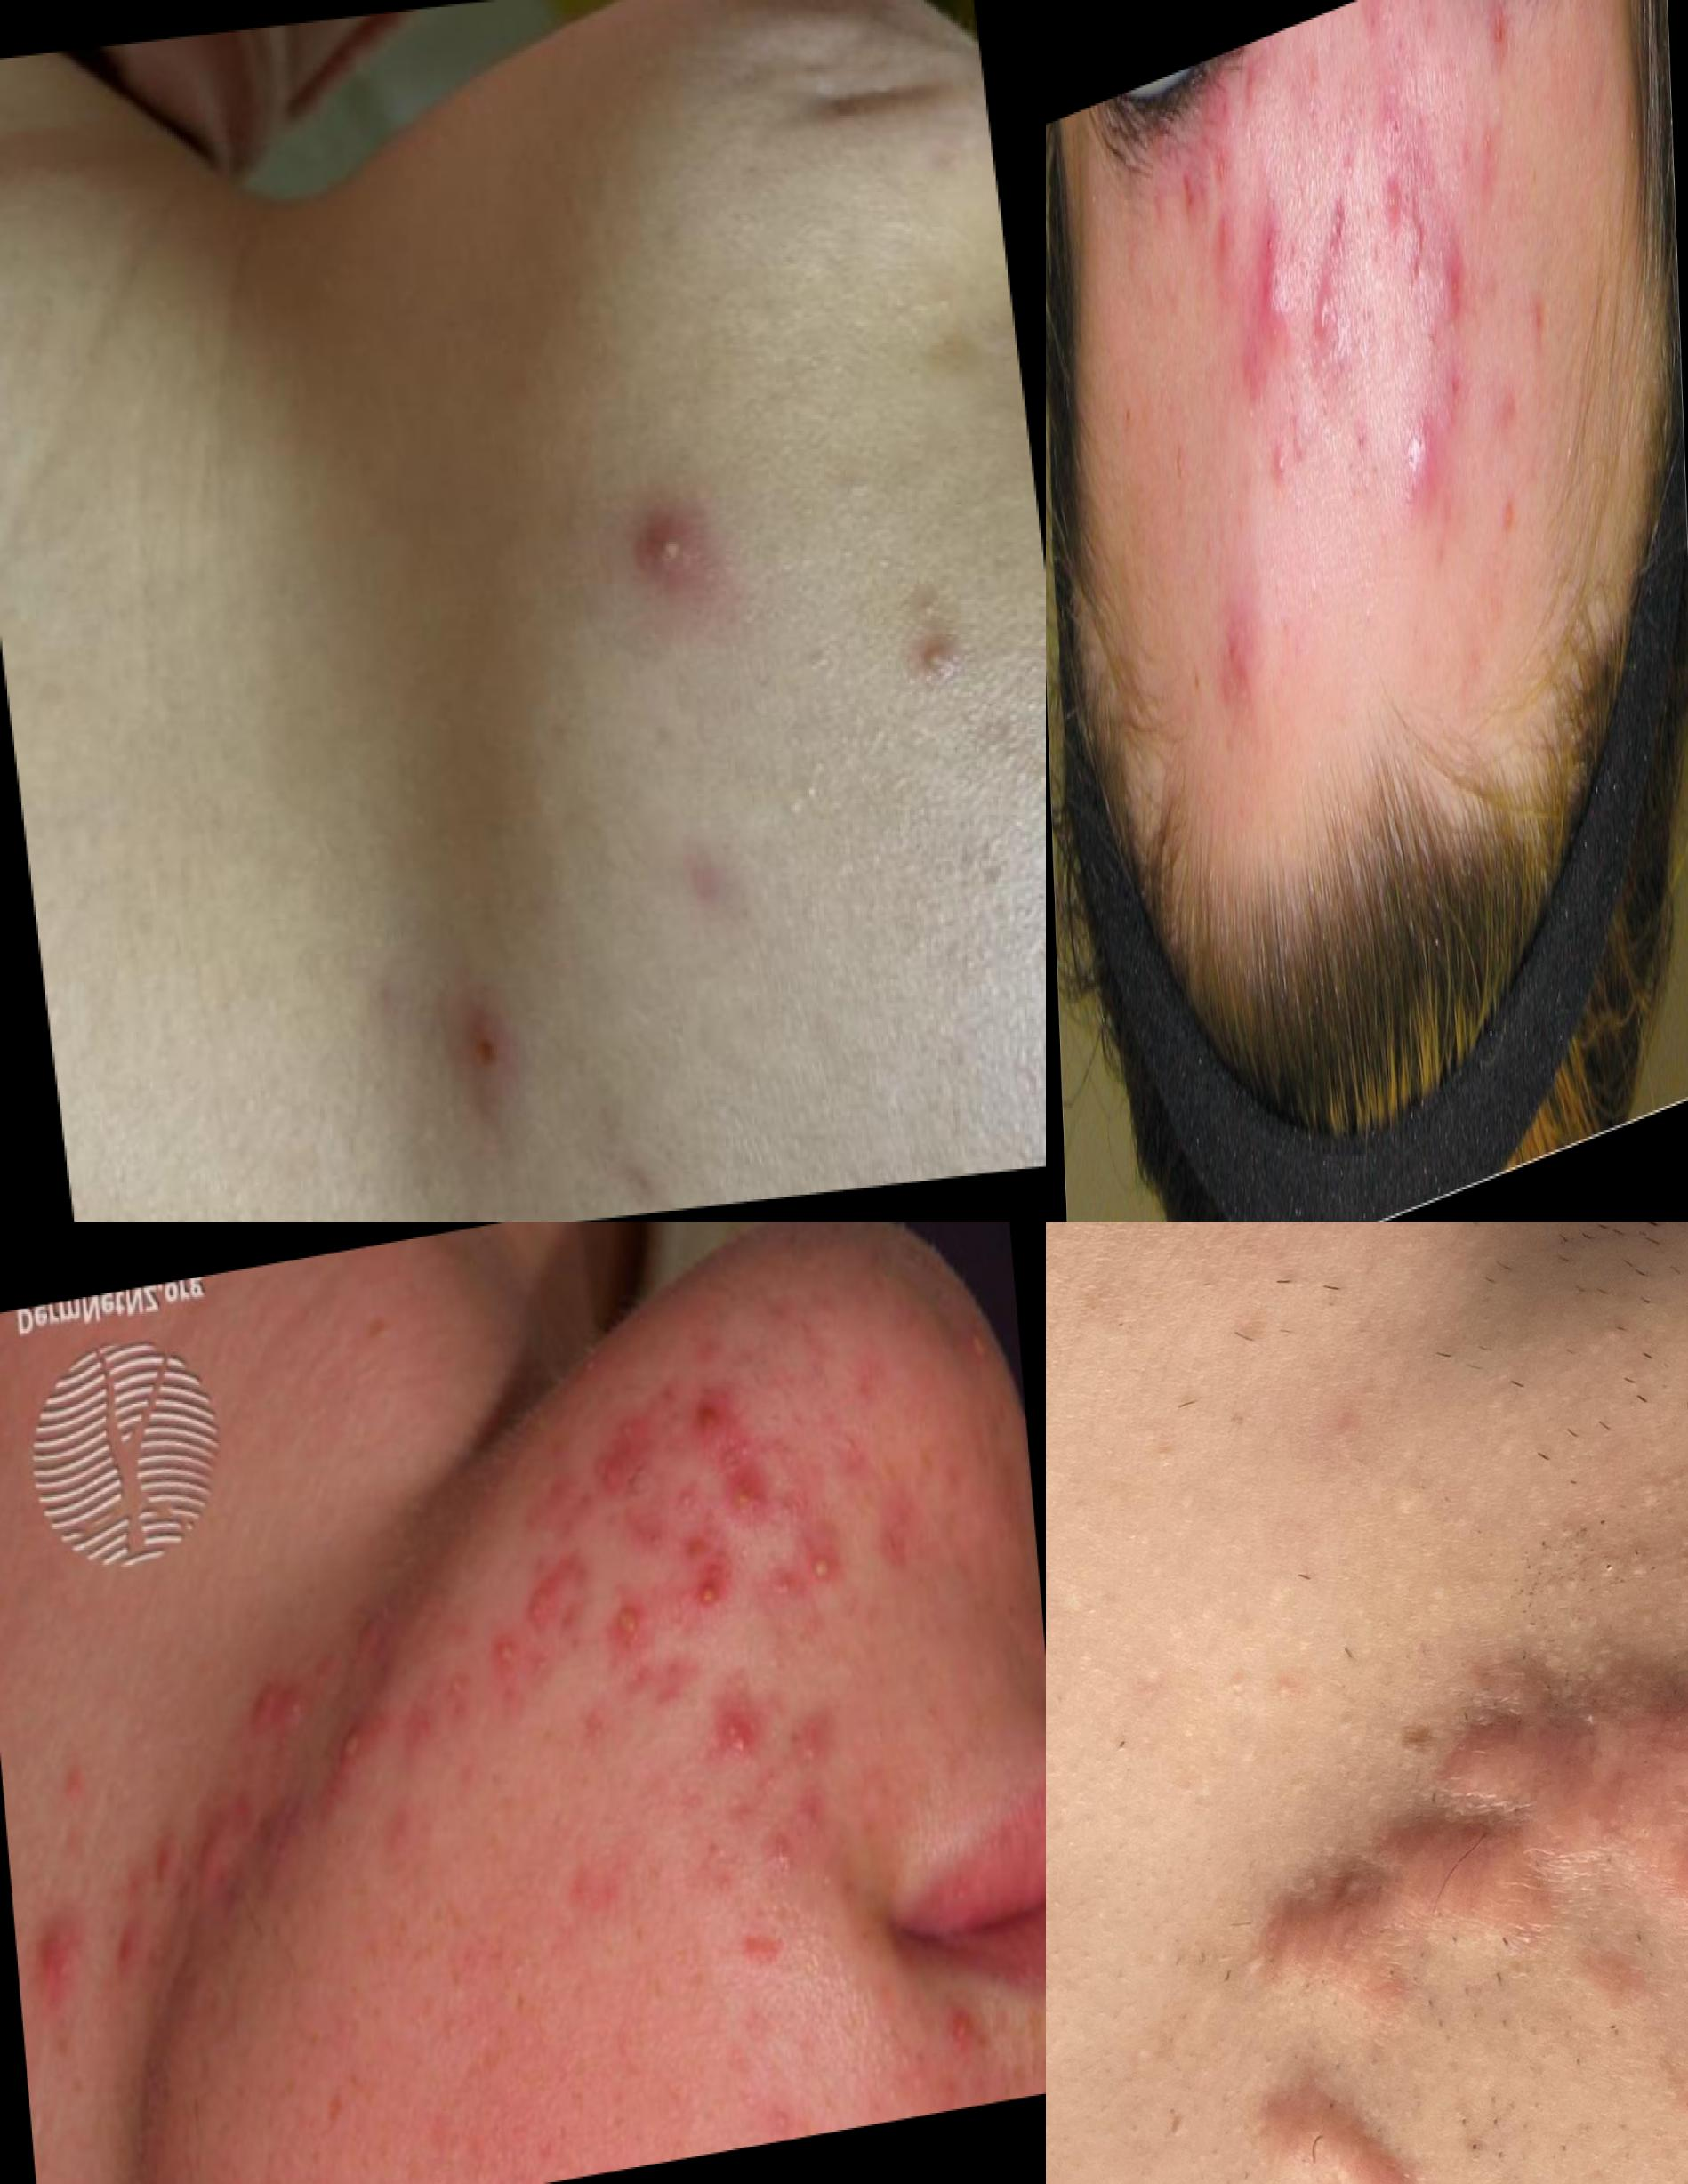cystic: (1392, 379, 1452, 550), (1442, 227, 1473, 339), (1259, 236, 1289, 351)
keloid: (1195, 1555, 1688, 2037), (1231, 2056, 1440, 2184)
papular: (227, 1640, 319, 1766), (574, 1400, 658, 1525), (30, 1884, 113, 2003), (1213, 580, 1262, 757), (670, 1356, 745, 1468), (190, 1821, 232, 1909), (112, 1899, 149, 1989)
purulent: (631, 493, 709, 585), (897, 619, 984, 684), (922, 1984, 982, 2072), (1312, 255, 1349, 369), (326, 1709, 381, 1769), (807, 1530, 855, 1595), (610, 1588, 656, 1650), (1383, 138, 1410, 239), (690, 1556, 729, 1622), (488, 1622, 520, 1672), (920, 651, 949, 667)
sebo-crystan-conglo: (716, 1675, 784, 1789), (1261, 404, 1305, 509), (518, 1562, 564, 1633), (1325, 184, 1353, 261)
whitehead: (785, 768, 837, 821), (910, 578, 963, 626)
